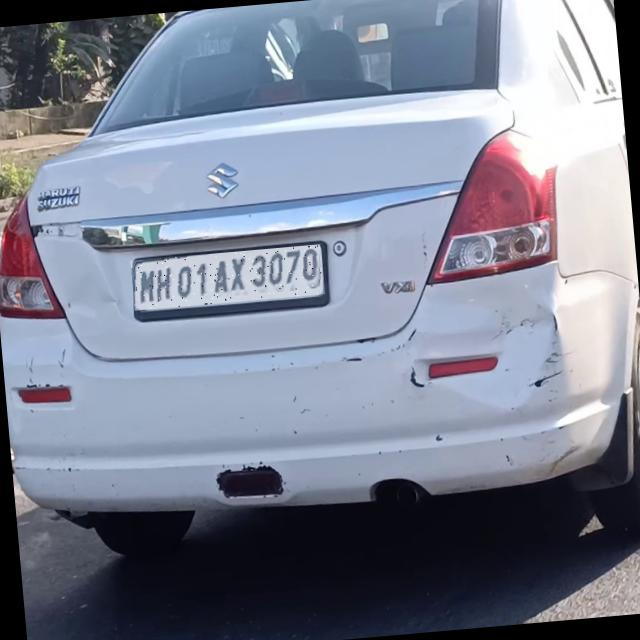Plate: (131, 245, 326, 311)
